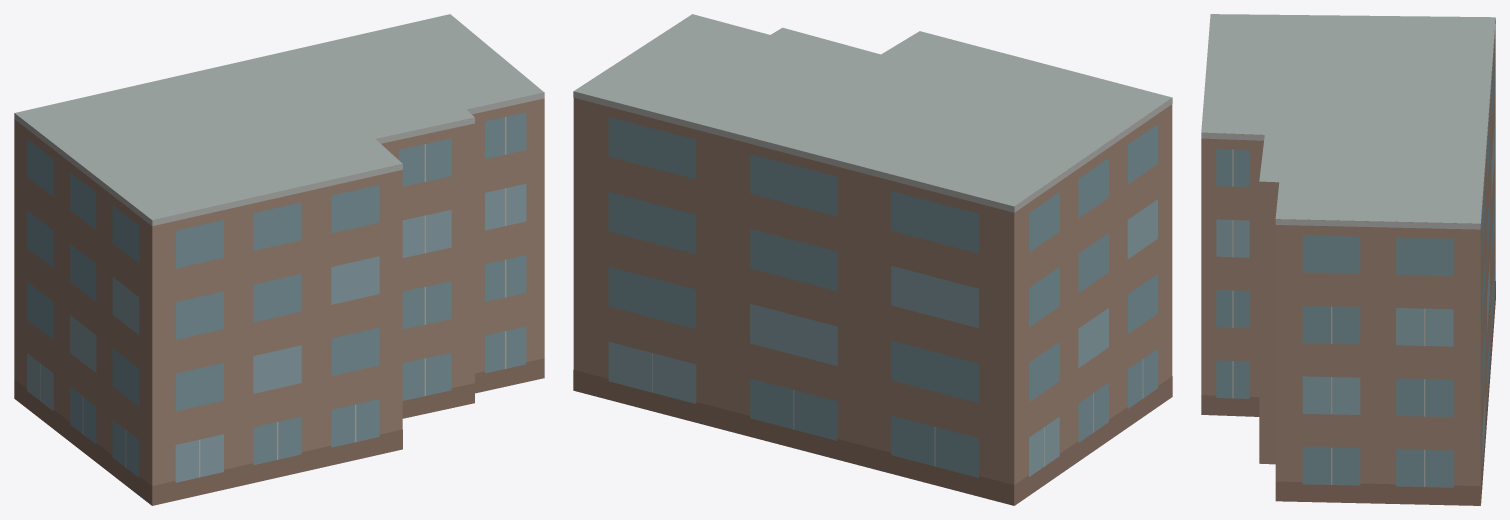
File: survey-upis-32570184.glb
3 renders of one model, left to right at view 1: azimuth 30°, elevation 25°; view 2: azimuth 150°, elevation 25°; view 3: azimuth 270°, elevation 25°, orthographic. The views are drawn at different scales.
Parts seen in each view (by area): view 1: survey-upis-32570184.tmp; view 2: survey-upis-32570184.tmp; view 3: survey-upis-32570184.tmp.
Part boxes in pixels (box(x1,y1,x2,y2)): survey-upis-32570184.tmp: box(14, 14, 544, 505); survey-upis-32570184.tmp: box(573, 14, 1172, 505); survey-upis-32570184.tmp: box(1201, 14, 1495, 505).
Bounding box in the file's own units: 18.49 × 11.6 × 10.98.
